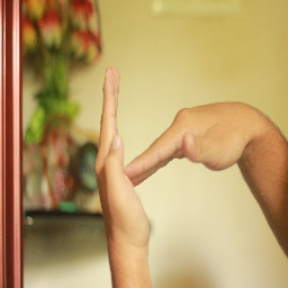Z: (87, 61, 245, 239)
